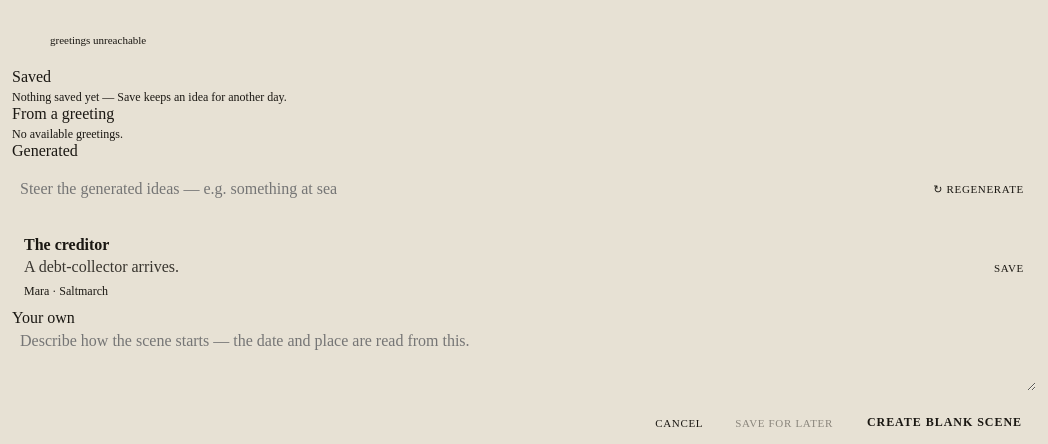
a stale greetings-fetch error banner is cleared when Regenerate starts
This screenshot has width=1048, height=444.
Check: the text "greetings unreachable" is shown, box [50,34,146,46]
Click the button "↻ Regenerate" at (979, 189), box [921,172,1036,206]
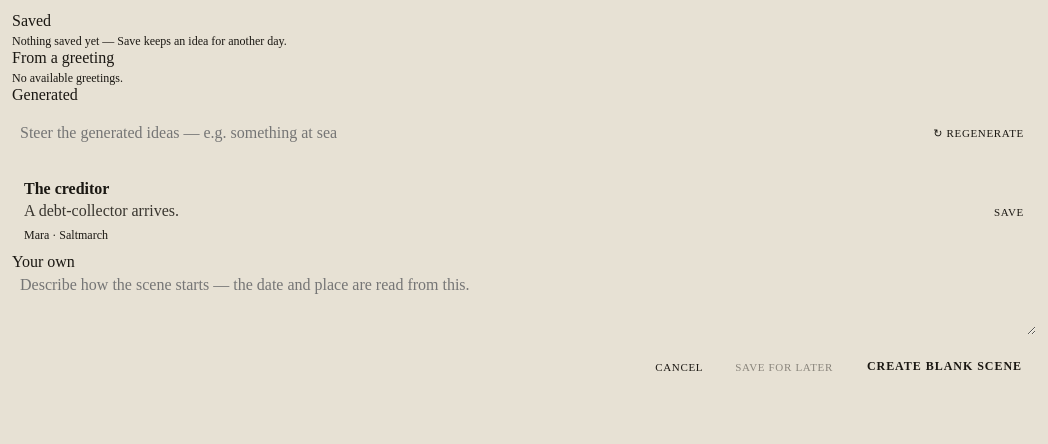
Check: the text "greetings unreachable" is gone
